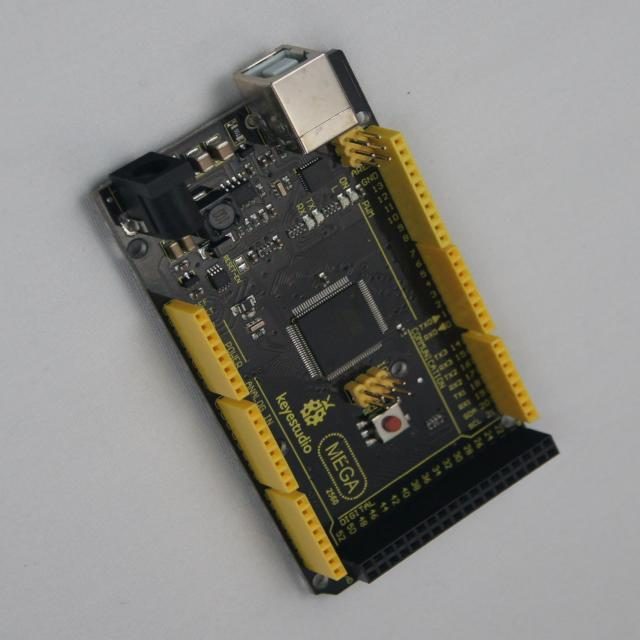Arduino Mega 2560 -Yellow-: (95, 46, 559, 594)
